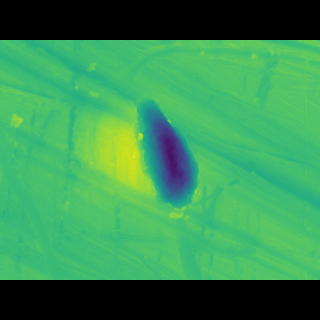Loch: (0, 76, 127, 197), (130, 111, 206, 206)
